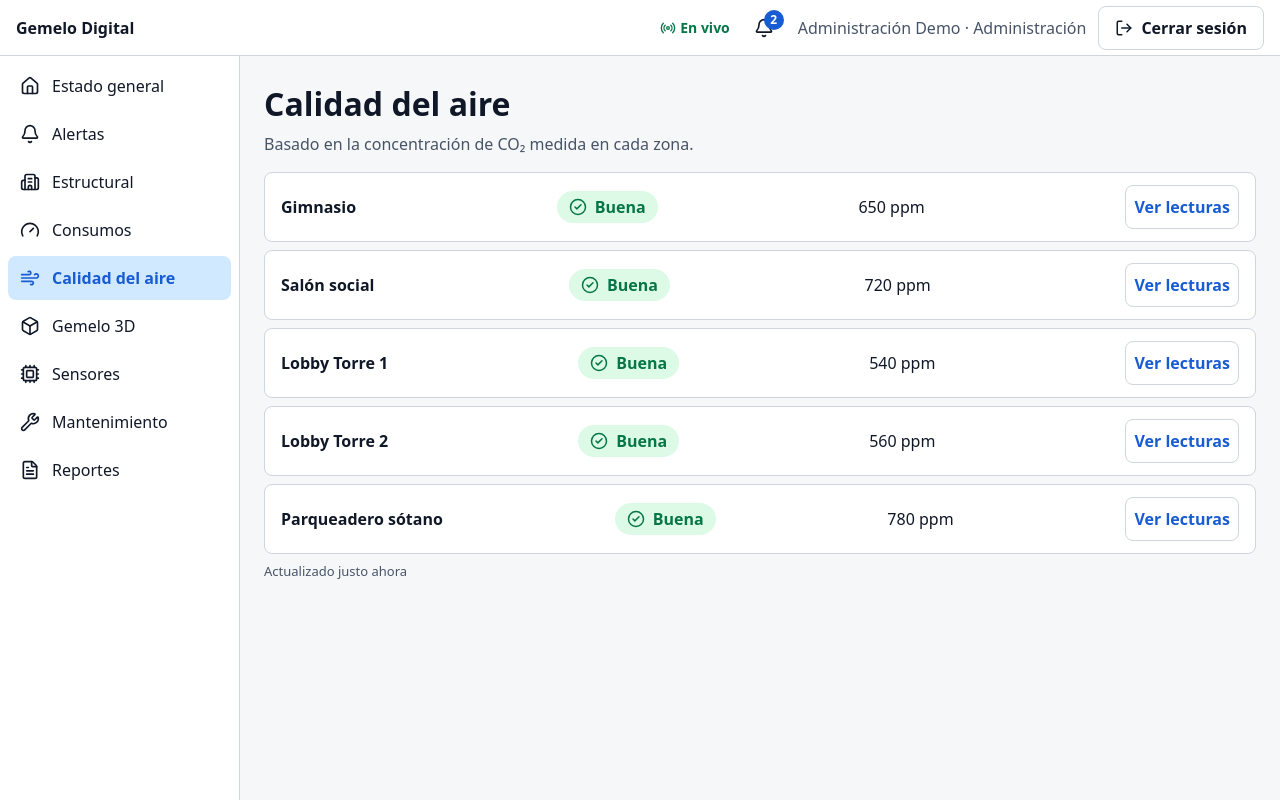
it: rutas y guardas › cerrar sesión vuelve al login
Click the button "Cerrar sesión" at coordinates (1181, 28), box [1098,6,1264,50]
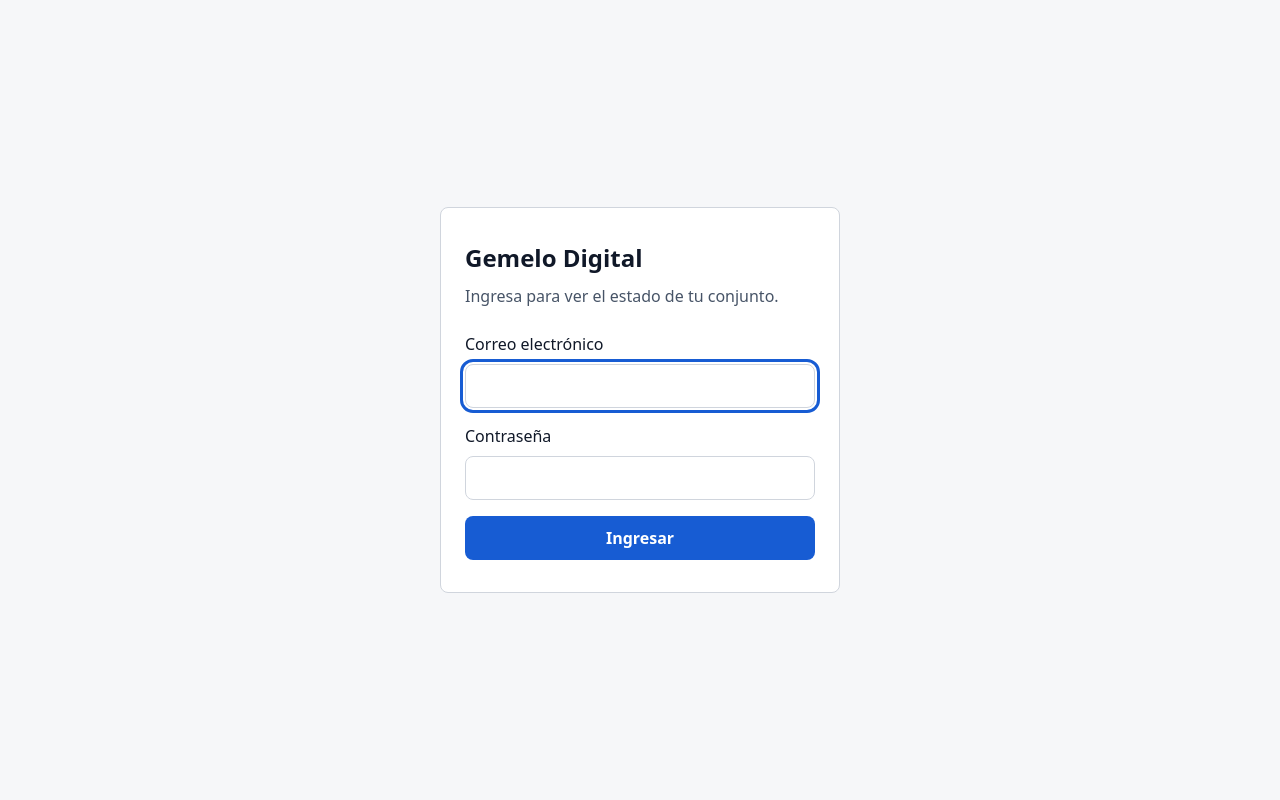
Expected: the button "Ingresar" is shown, [465,516,815,560]
